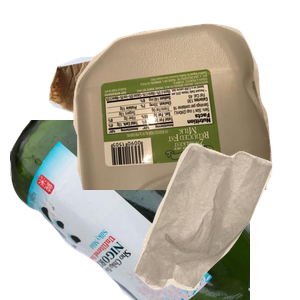cardboard: (46, 40, 226, 179)
glass: (10, 120, 250, 300)
plastic: (71, 21, 300, 201)
trash: (132, 140, 300, 300)
